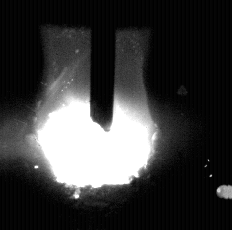arame: (91, 0, 115, 132)
poca: (36, 0, 157, 230)
